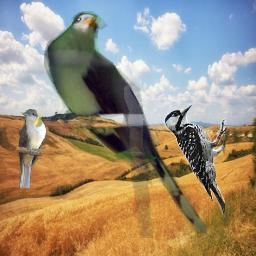Cuckoo: (44, 11, 219, 238), (17, 109, 46, 188)
Woodpecker: (163, 104, 229, 222)
